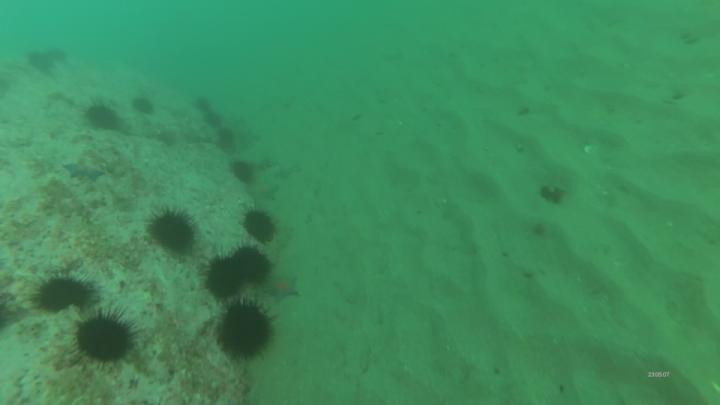echinus: (219, 305, 272, 358), (77, 318, 129, 361), (38, 277, 91, 313), (149, 214, 193, 253), (208, 259, 246, 296), (232, 247, 271, 282), (244, 210, 277, 245), (88, 106, 120, 130), (233, 160, 254, 184), (28, 52, 54, 71), (133, 97, 155, 115), (216, 130, 236, 145), (207, 112, 223, 125), (194, 98, 208, 109)
starfish: (267, 275, 299, 304), (66, 159, 104, 182)
